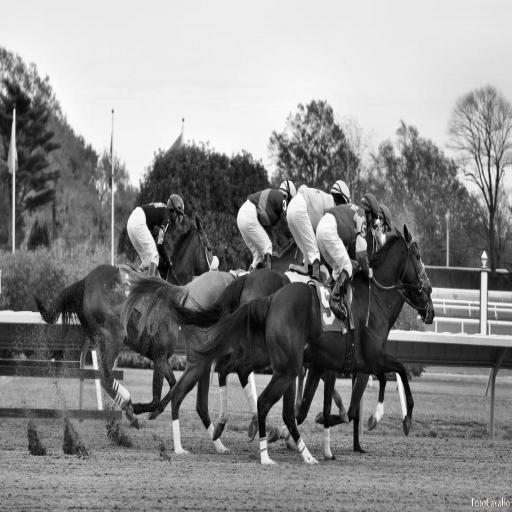horse: (26, 213, 436, 465)
